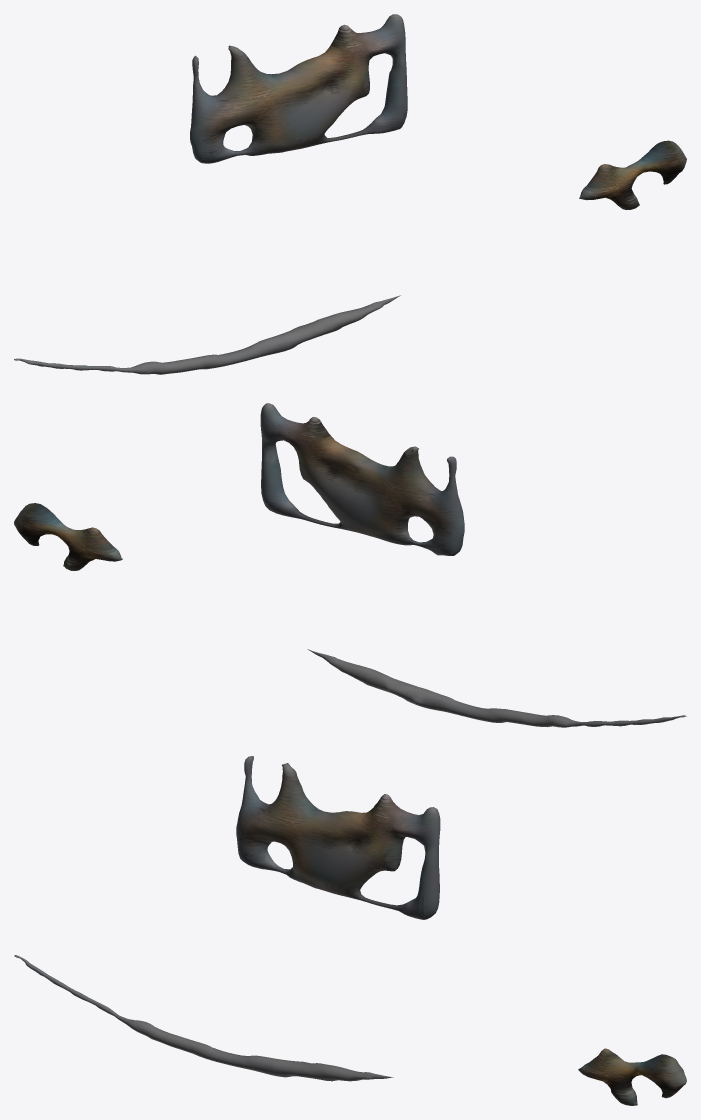
File: kfl-2135.glb
The picture shows the model from 3 angles, top to bottom: view 1: azimuth 30°, elevation 25°; view 2: azimuth 150°, elevation 25°; view 3: azimuth 330°, elevation 25°; orthographic projection.
Visible parts, largest first — view 1: geometry_0; view 2: geometry_0; view 3: geometry_0.
Boxes of the visible parts, x1,y1,x2,y2 form: geometry_0: (14, 14, 686, 374); geometry_0: (14, 403, 686, 727); geometry_0: (14, 756, 686, 1105).
Bounding box in the file's own units: 0.984 × 0.4015 × 0.093.
1 material, 1 textured.
